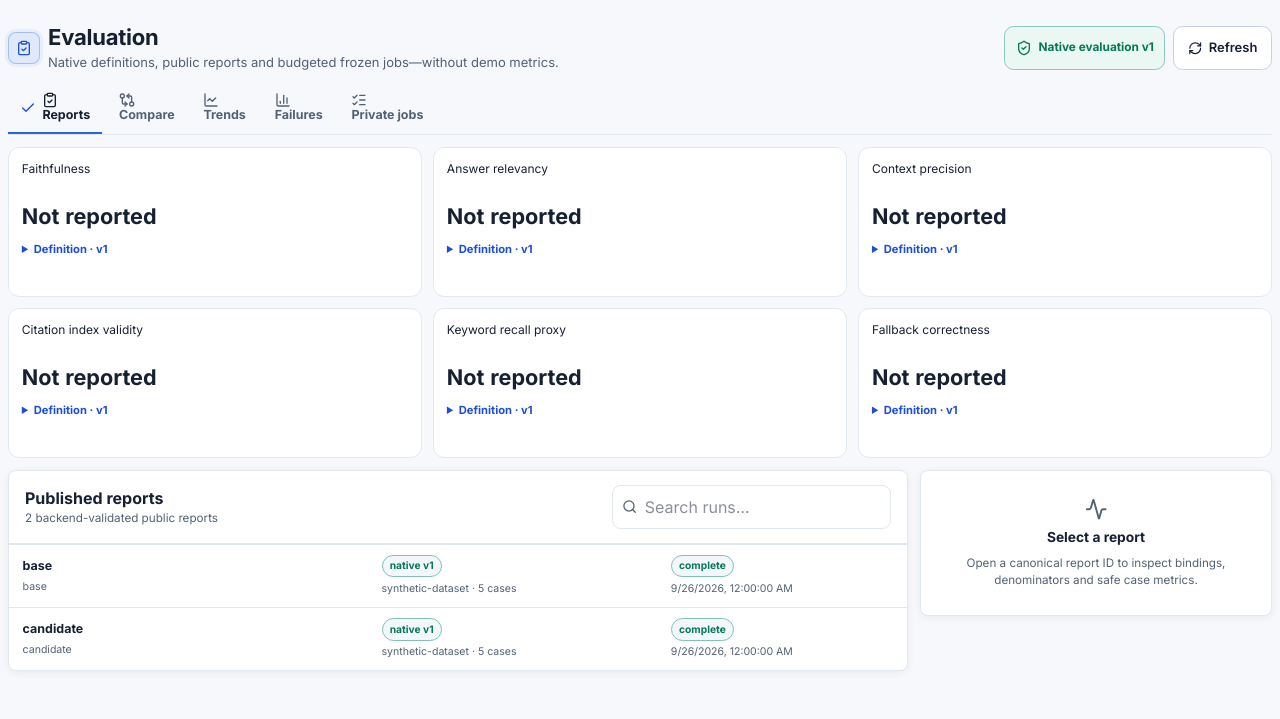
backend-owned analytics › compare shows zero, positive, negative and null deltas plus compatibility and counts
Expected: the button "base" is shown, [9,544,907,607]
What coordinates should you click on to do the following:
click the tab "Compare"
I would click on:
 (147, 109)
Its box is [107,84,187,134].
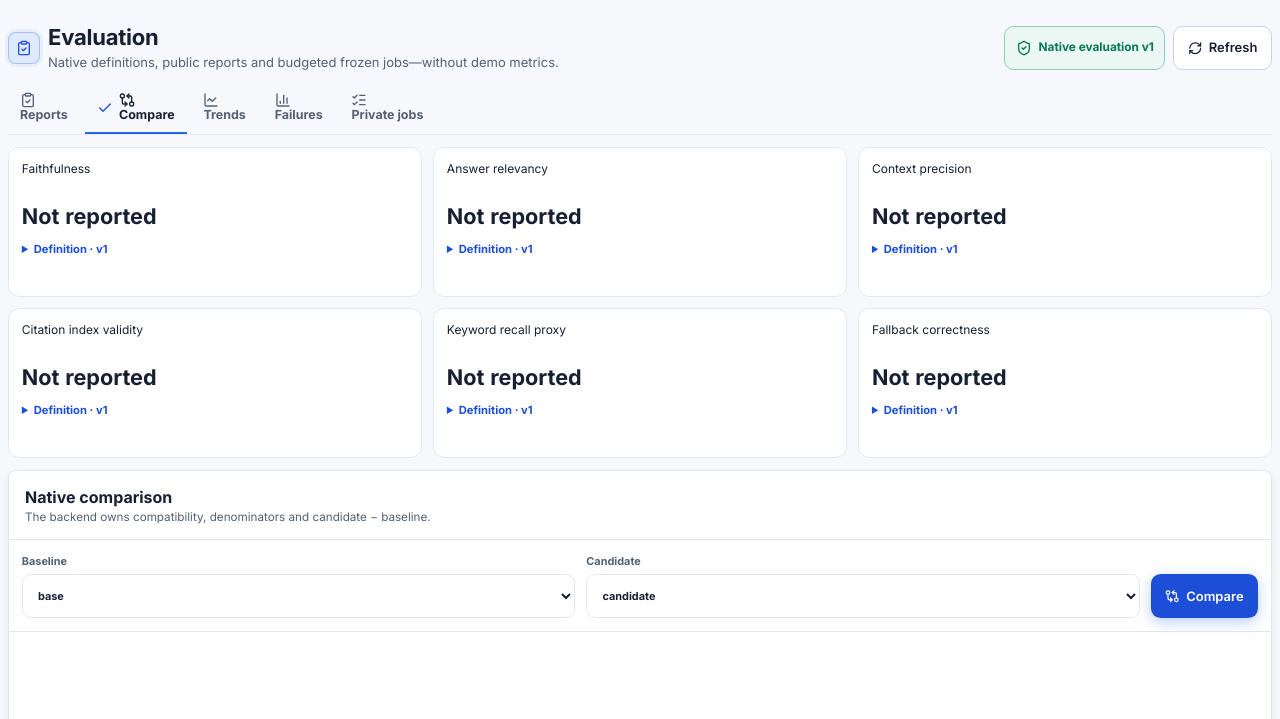
What coordinates should you click on to do the following:
click the button "Compare"
I would click on:
 (1204, 596)
Its box is [1151,574,1258,618].
(page scrolled)
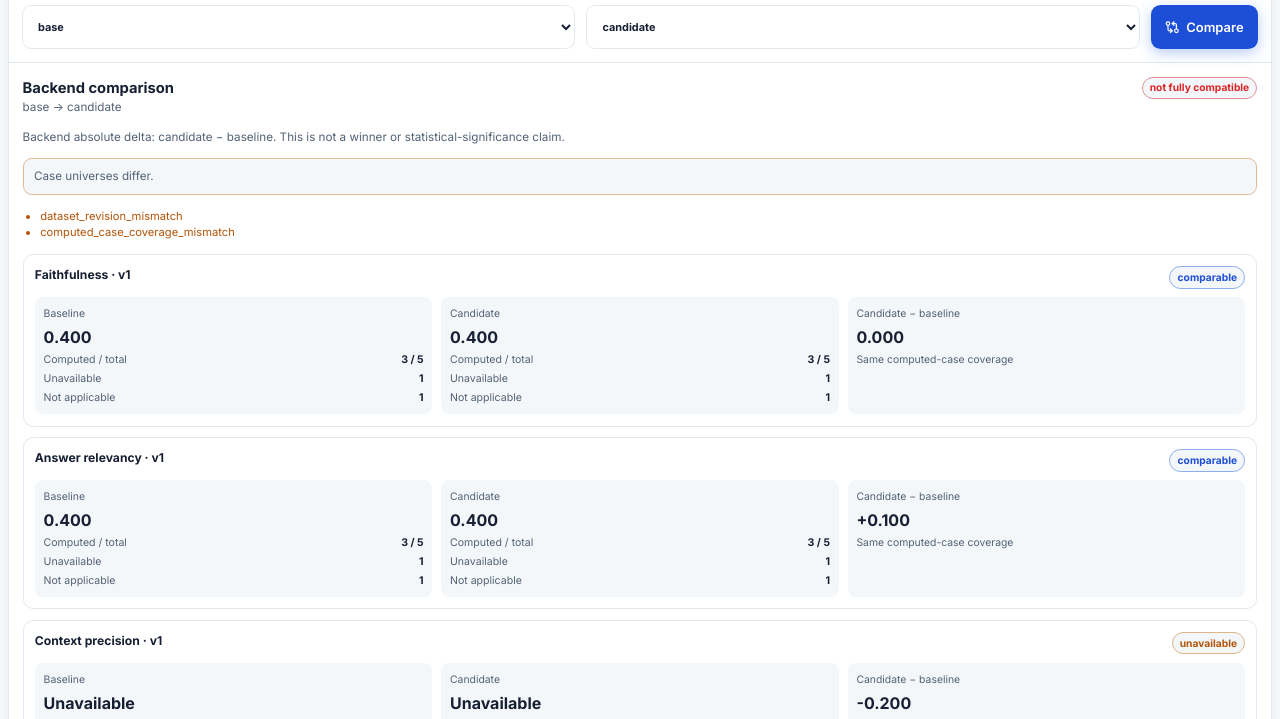
Result: the text "Not fully compatible" is shown at [1142,77,1257,99]
Result: the text "0.000" is shown at [856,327,904,347]
Result: the text "+0.100" is shown at [856,510,910,530]
